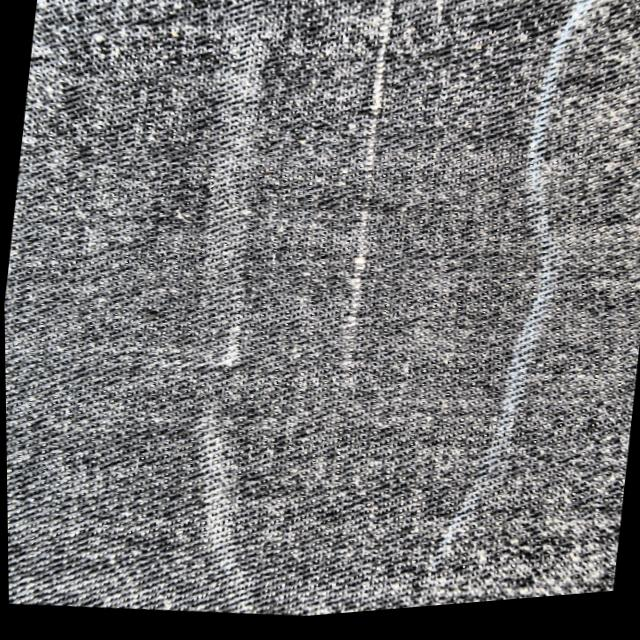Hole: (319, 268, 381, 387), (339, 180, 391, 261), (356, 50, 407, 125), (371, 0, 412, 35)
